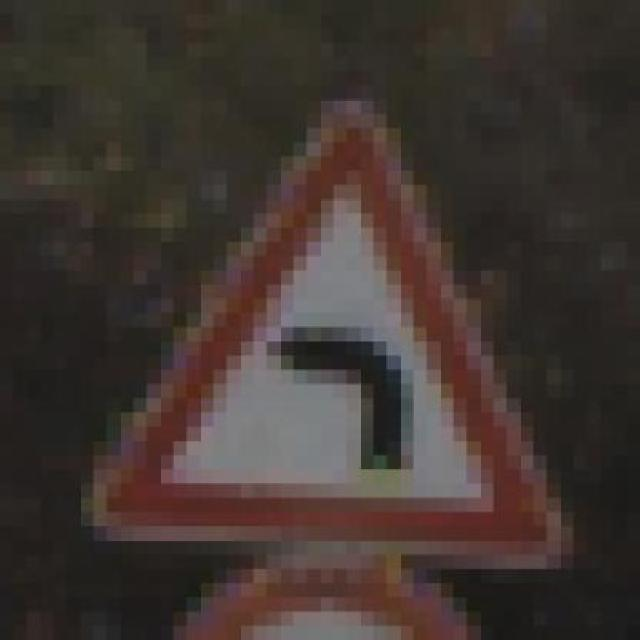Dangerous Left Curve Ahead: (67, 57, 587, 569)
